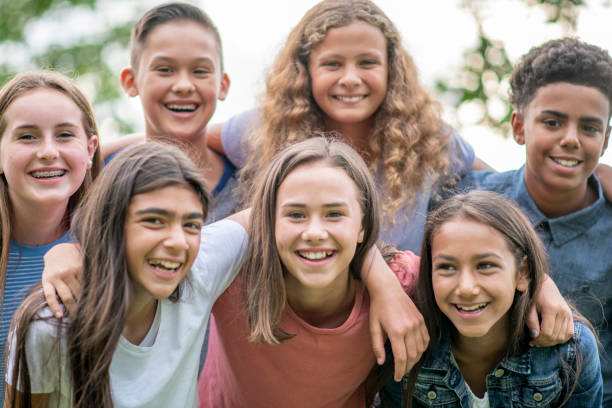face: (279, 185, 359, 289), (5, 104, 89, 202), (433, 236, 514, 337), (129, 196, 203, 303), (142, 34, 216, 135), (532, 97, 605, 188), (314, 39, 386, 119)
